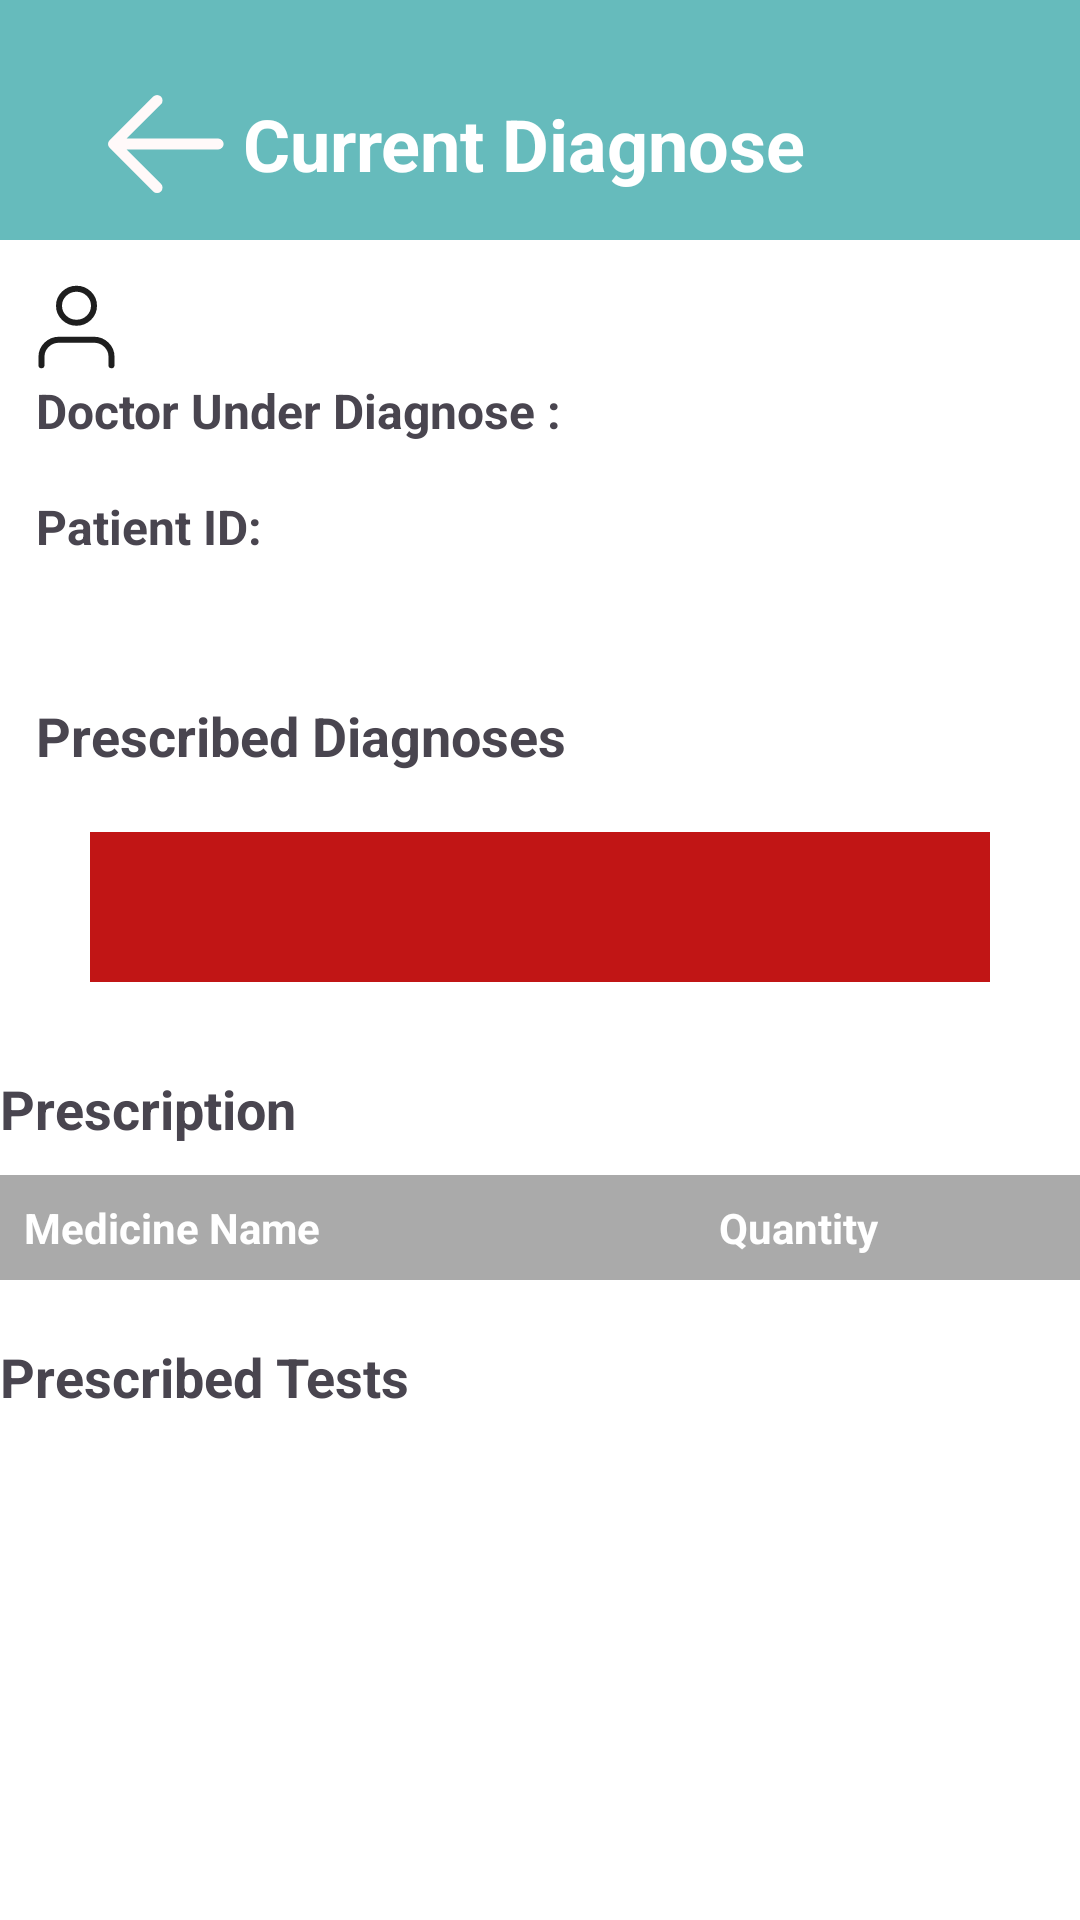

Named icons in this screenshot (1080 × 1920) and their bounding boxes, [x1, y1, x2, y2]:
arrow: [108, 95, 224, 193]
